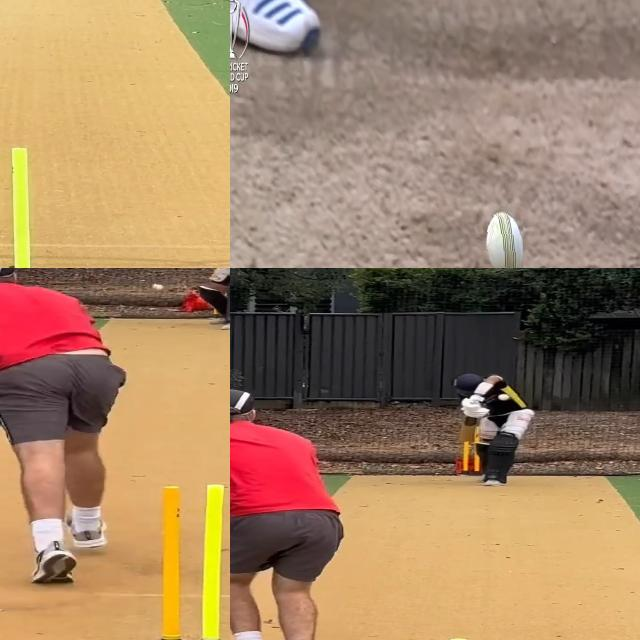Cricket ball: (483, 205, 523, 268), (151, 282, 167, 291), (497, 394, 510, 402)
Stumps: (143, 482, 230, 640)
